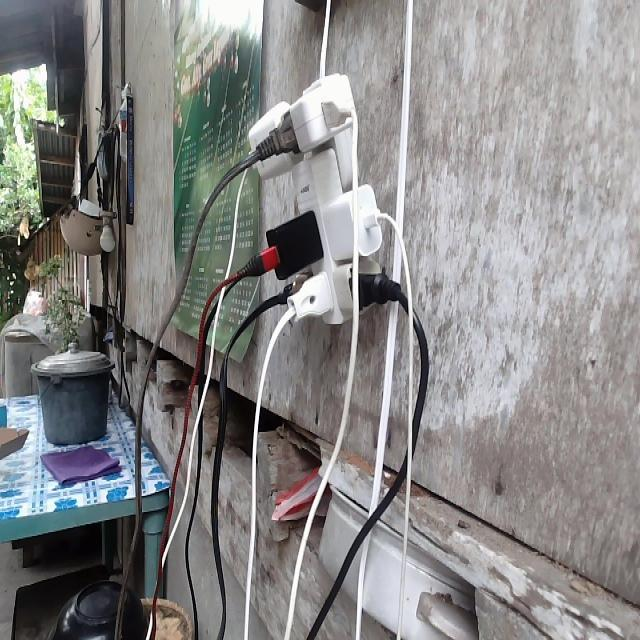-: (247, 71, 389, 332)
